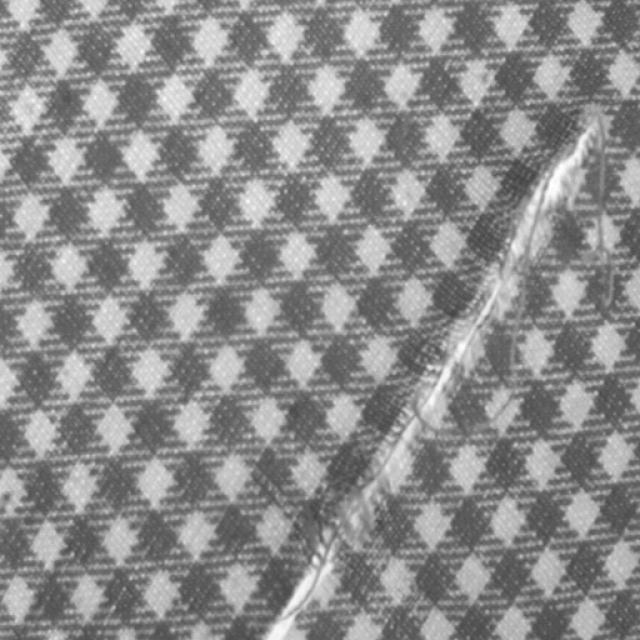Hole-Defect: (260, 111, 615, 639)
